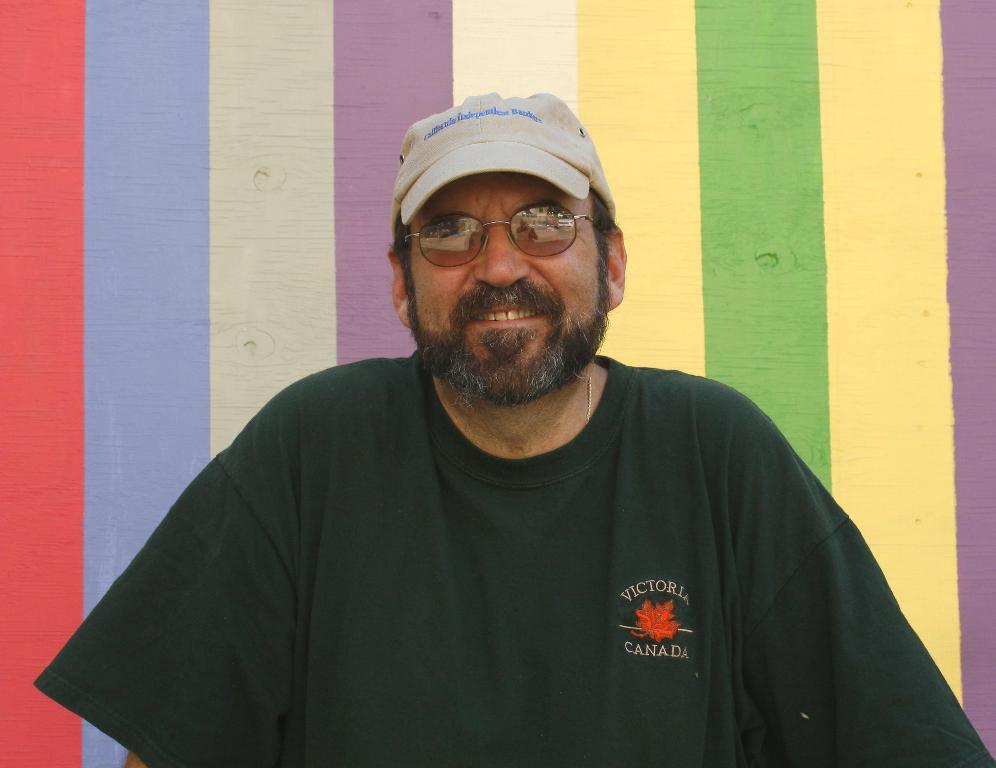Hat: (392, 95, 614, 238)
